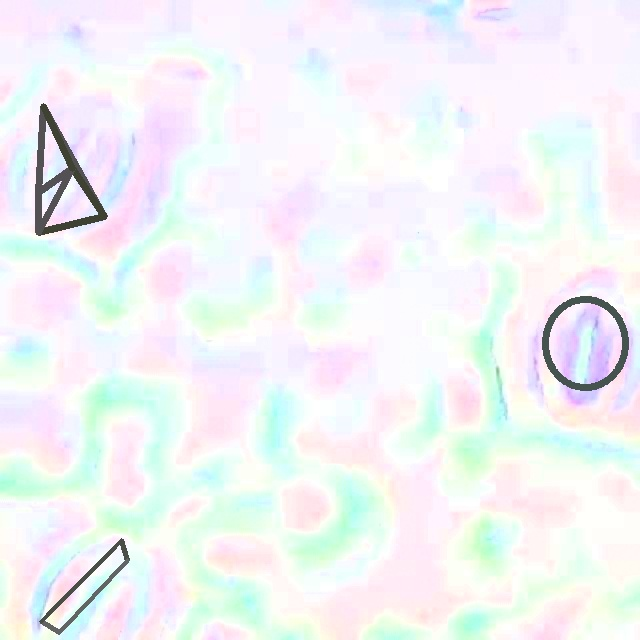open: (36, 103, 107, 234), (39, 538, 129, 634), (541, 296, 629, 391)
